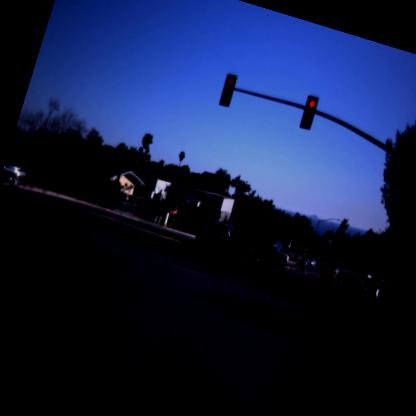trafficlight: (214, 69, 241, 110), (297, 92, 324, 132)
